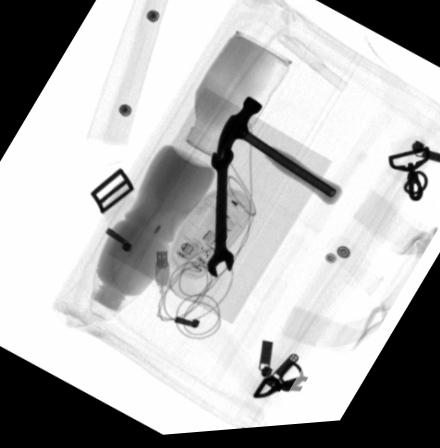Hammer: (220, 98, 344, 209)
Wrench: (207, 149, 235, 281)
